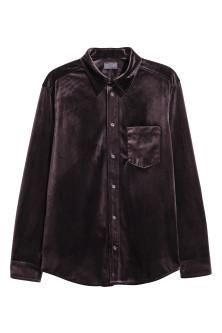teeshirt: (6, 46, 214, 286)
